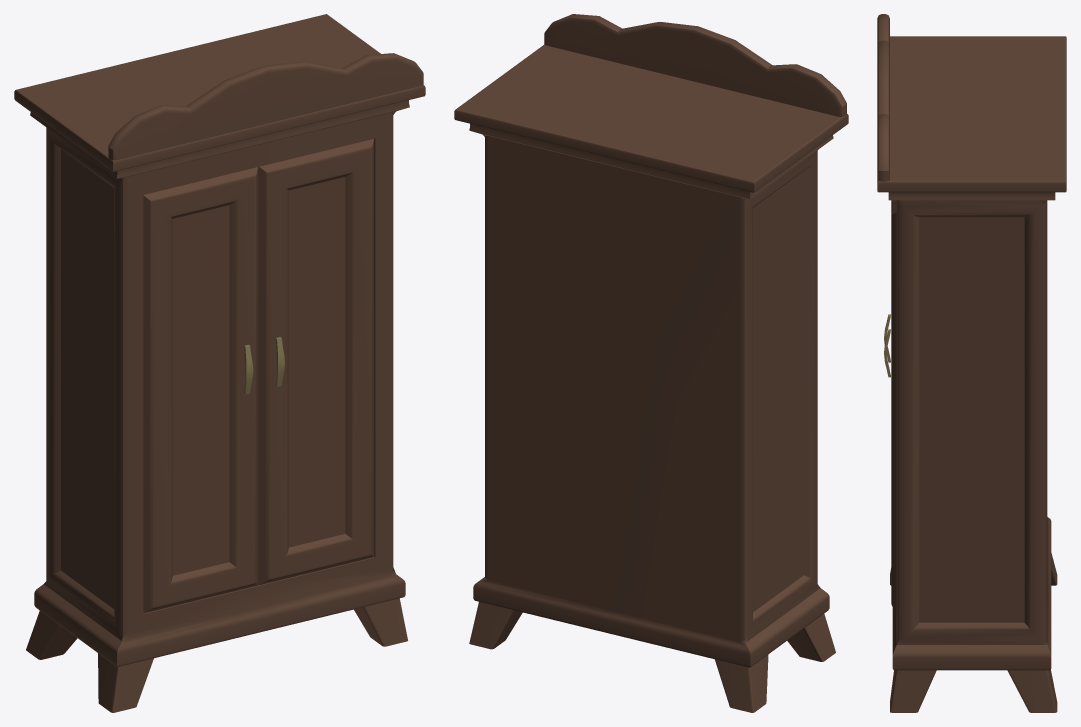
The model's file is closet.fbx.
The picture shows the model from 3 angles, left to right: view 1: azimuth 30°, elevation 25°; view 2: azimuth 150°, elevation 25°; view 3: azimuth 270°, elevation 25°; orthographic projection. The views are drawn at different scales.
Visible parts, largest first — view 1: polySurface2; view 2: polySurface2; view 3: polySurface2.
Boxes of the visible parts, bbox=[...] form: polySurface2: bbox=[14, 14, 425, 712]; polySurface2: bbox=[454, 14, 848, 712]; polySurface2: bbox=[877, 14, 1066, 712].
Size of the model in its own units: 6.83 by 12.79 by 3.73.
